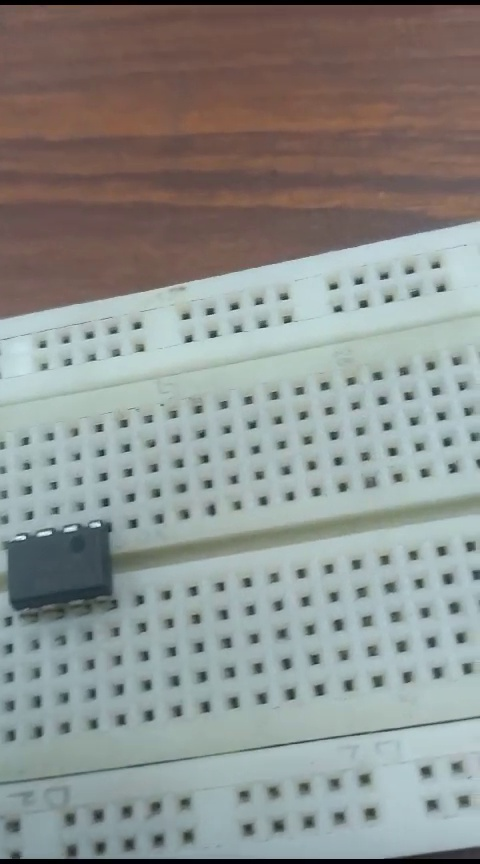IC: (8, 520, 123, 623)
